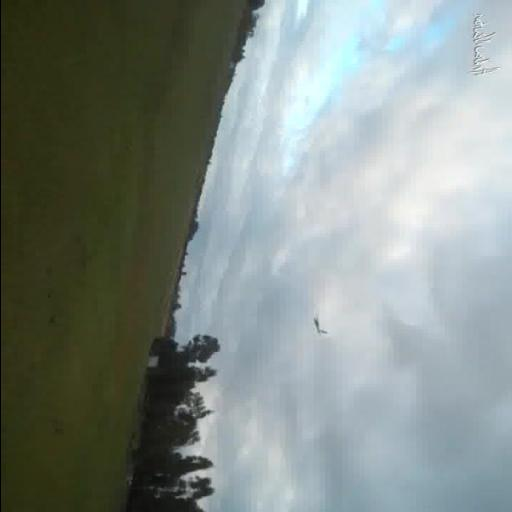uav: (309, 312, 329, 338)
